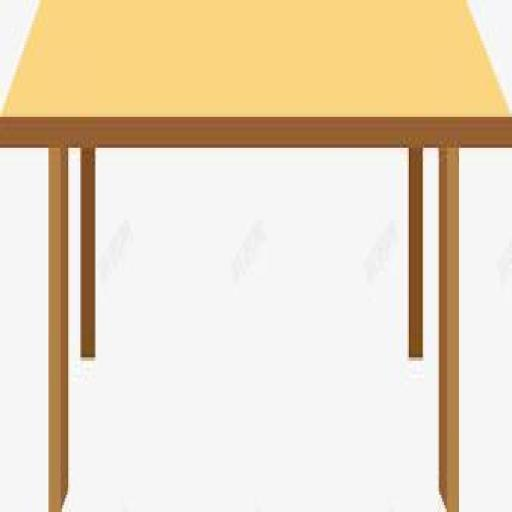table: (5, 7, 501, 498)
